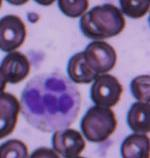N: (20, 72, 80, 130)
